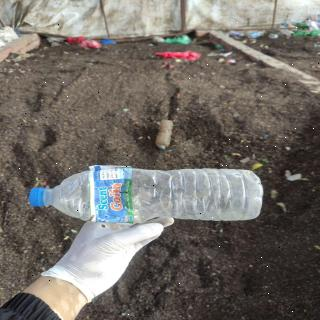Plastic-bottle: (27, 162, 271, 227)
